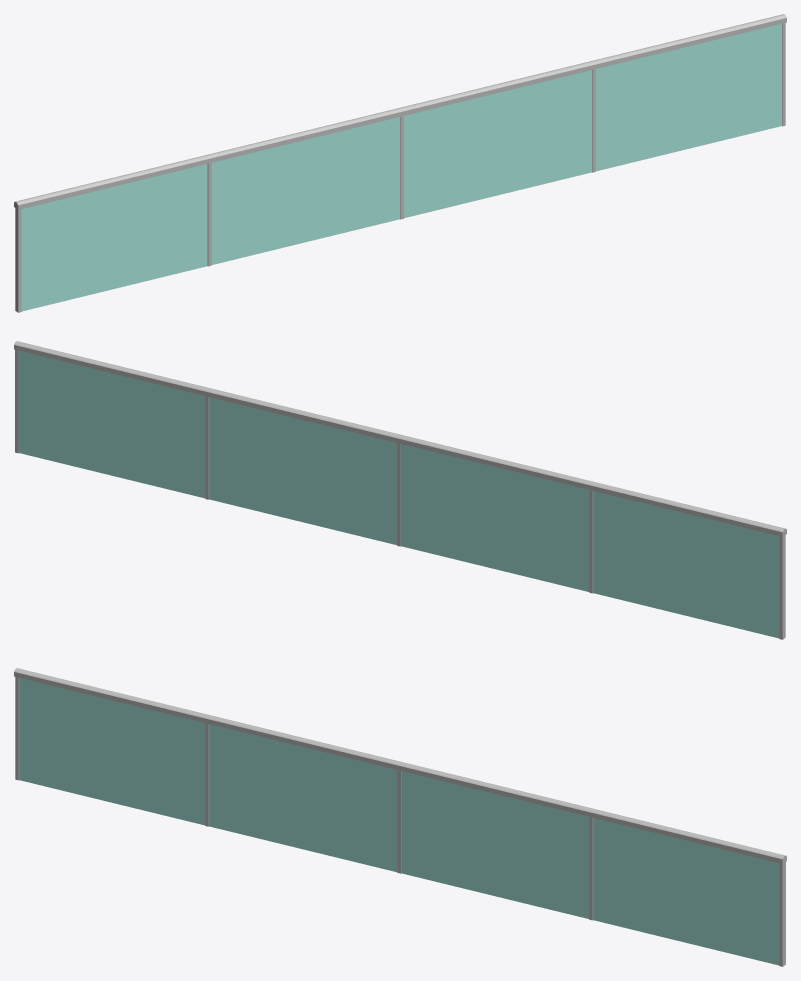
Rendered from Railing_4Wide.fbx.
The picture shows the model from 3 angles, top to bottom: view 1: azimuth 30°, elevation 25°; view 2: azimuth 150°, elevation 25°; view 3: azimuth 330°, elevation 25°; orthographic projection.
Visible parts, largest first — view 1: Railing_4Wide; view 2: Railing_4Wide; view 3: Railing_4Wide.
Boxes of the visible parts, <box> form: Railing_4Wide: <box>14,14,786,312</box>; Railing_4Wide: <box>14,341,786,639</box>; Railing_4Wide: <box>14,668,786,966</box>.
Bounding box in the file's own units: 10.02 × 1.37 × 0.0948.
